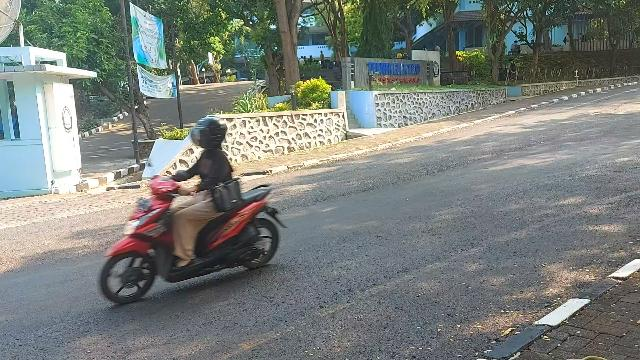helm: (193, 117, 228, 149)
motor: (101, 162, 287, 305)
